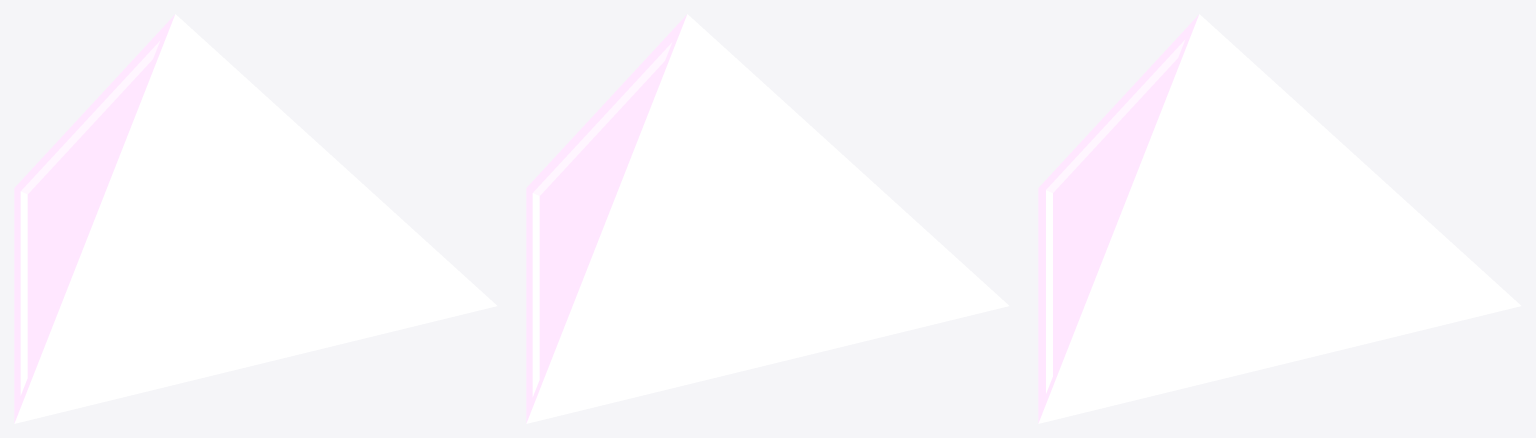
File: SFI0310004.fbx
The picture shows the model from 3 angles, left to right: view 1: azimuth 30°, elevation 25°; view 2: azimuth 150°, elevation 25°; view 3: azimuth 270°, elevation 25°; orthographic projection.
Visible parts, largest first — view 1: smSFI0310004; view 2: smSFI0310004; view 3: smSFI0310004.
Boxes of the visible parts, box(x1,y1,x2,y2) form: smSFI0310004: box(14, 14, 496, 423); smSFI0310004: box(526, 14, 1008, 423); smSFI0310004: box(1038, 14, 1520, 423).
Bounding box in the file's own units: 173 × 100 × 150.
